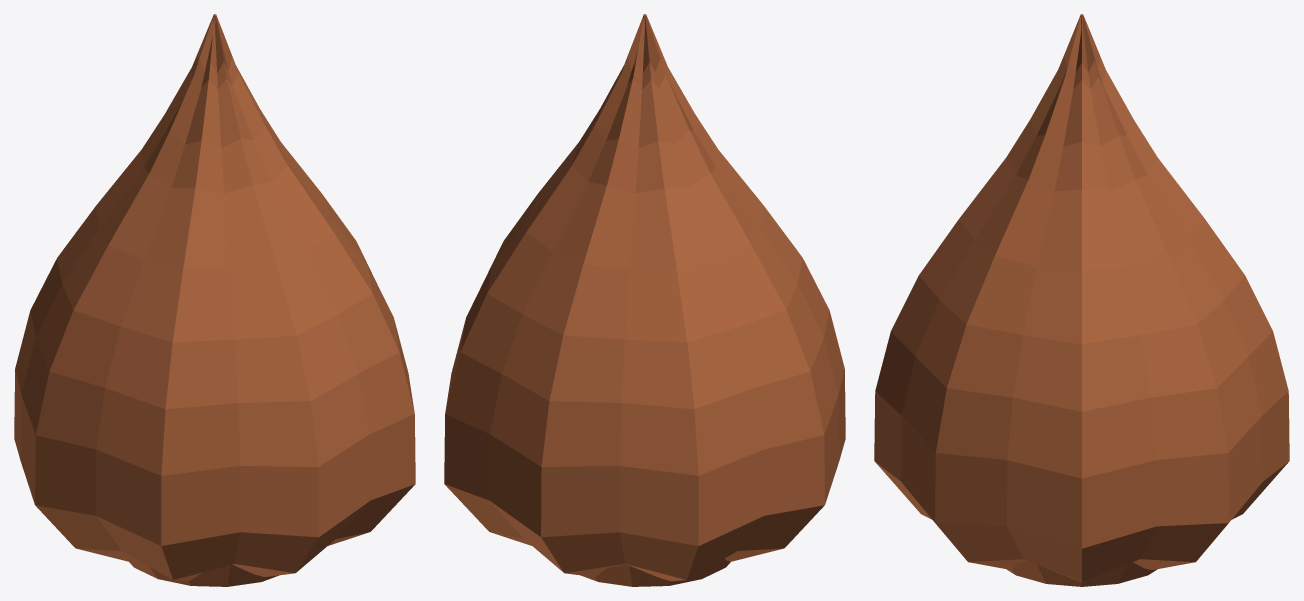
Rendered from seed1.fbx.
3 renders of one model, left to right at view 1: azimuth 30°, elevation 25°; view 2: azimuth 150°, elevation 25°; view 3: azimuth 270°, elevation 25°, orthographic.
Parts seen in each view (by area): view 1: Circle; view 2: Circle; view 3: Circle.
Part boxes in pixels (x1,y1,x2,y2): Circle: [14, 14, 415, 586]; Circle: [444, 14, 845, 586]; Circle: [874, 14, 1289, 586].
Size of the model in its own units: 201 by 284 by 201.
